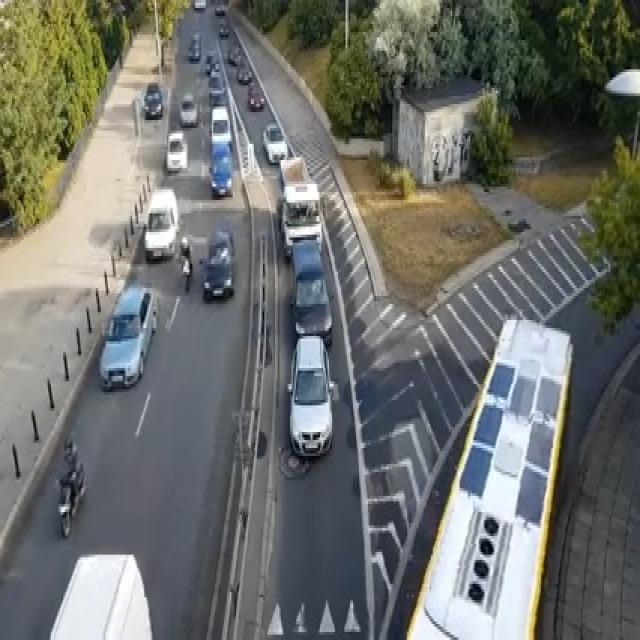bus: (404, 312, 573, 637)
car: (98, 283, 158, 389), (286, 333, 334, 459), (290, 240, 332, 344), (280, 181, 322, 259), (198, 224, 234, 299), (143, 187, 179, 261), (57, 459, 86, 536), (207, 142, 233, 198), (261, 120, 287, 163), (209, 104, 231, 147), (165, 130, 188, 170), (141, 80, 162, 117), (179, 94, 197, 125), (247, 80, 264, 109), (186, 32, 202, 61), (208, 72, 225, 99), (204, 48, 218, 72), (236, 64, 251, 83), (227, 45, 240, 64), (220, 16, 228, 35), (213, 3, 226, 13), (209, 59, 219, 72), (192, 0, 206, 8)
